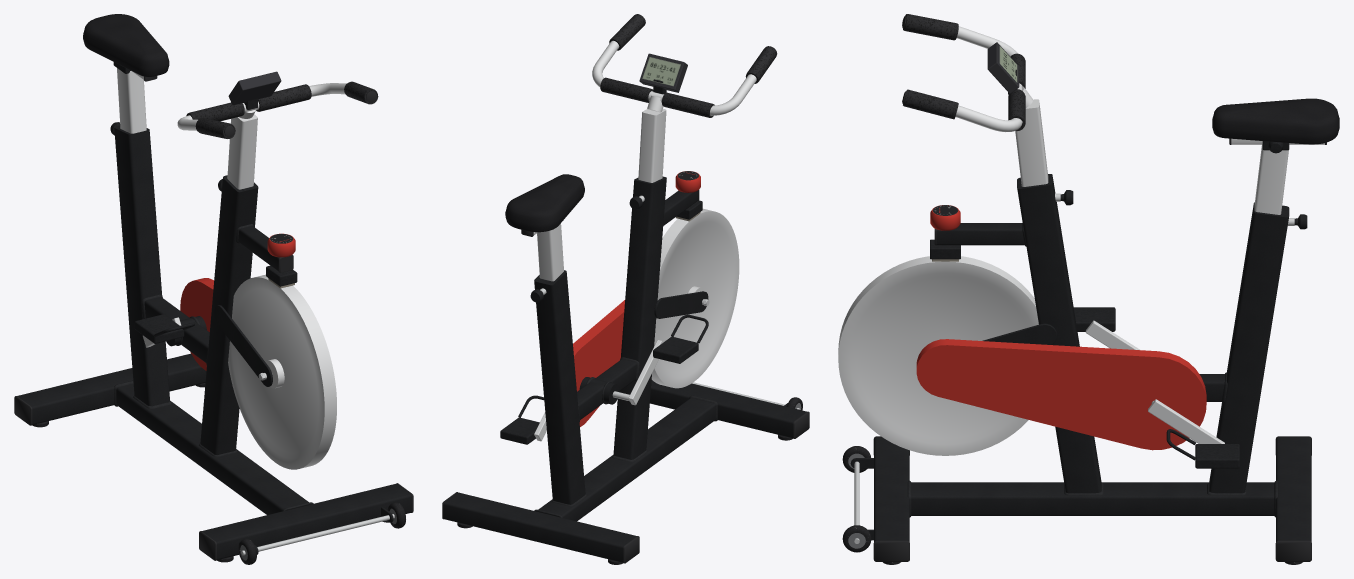
File: bike.glb
The picture shows the model from 3 angles, left to right: view 1: azimuth 30°, elevation 25°; view 2: azimuth 150°, elevation 25°; view 3: azimuth 270°, elevation 25°; orthographic projection. The views are drawn at different scales.
Visible parts, largest first — view 1: Flywheel (polished steel), Rear post (seat sleeve), Front post (handlebar sleeve), Lower beam, Stabiliser, Stabiliser.001, Saddle (black vinyl), Handlebar post, Seat post, Bottom bracket beam, Flywheel fork plate, Belt guard (red) (+8 smaller); view 2: Flywheel (polished steel), Front post (handlebar sleeve), Rear post (seat sleeve), Stabiliser.001, Lower beam, Stabiliser, Saddle (black vinyl), Belt guard (red), Handlebar post, Bottom bracket beam, Seat post, Handlebar (bullhorn) (+11 smaller); view 3: Flywheel (polished steel), Belt guard (red), Lower beam, Rear post (seat sleeve), Front post (handlebar sleeve), Saddle (black vinyl), Stabiliser.001, Stabiliser, Handlebar post, Brake arm, Seat post, Handlebar (bullhorn) (+11 smaller).
Boxes of the visible parts, x1,y1,x2,y2 form: Flywheel (polished steel): (228, 274, 336, 469); Rear post (seat sleeve): (114, 125, 169, 405); Front post (handlebar sleeve): (200, 175, 258, 454); Lower beam: (116, 383, 308, 514); Stabiliser: (202, 483, 412, 559); Stabiliser.001: (17, 353, 206, 424); Saddle (black vinyl): (83, 14, 169, 76); Handlebar post: (227, 114, 257, 189); Seat post: (117, 68, 146, 133); Bottom bracket beam: (144, 297, 209, 362); Flywheel fork plate: (214, 305, 272, 386); Belt guard (red): (180, 278, 214, 370); Flywheel (polished steel): (651, 208, 739, 388); Front post (handlebar sleeve): (613, 176, 666, 459); Rear post (seat sleeve): (534, 270, 585, 504); Stabiliser.001: (443, 492, 636, 562); Lower beam: (538, 398, 715, 521); Stabiliser: (650, 380, 806, 438); Saddle (black vinyl): (505, 174, 584, 232); Belt guard (red): (573, 300, 624, 426); Handlebar post: (638, 108, 666, 182); Bottom bracket beam: (577, 359, 636, 419); Seat post: (537, 223, 563, 281); Handlebar (bullhorn): (592, 40, 756, 115); Flywheel (polished steel): (838, 256, 1038, 455); Belt guard (red): (916, 339, 1206, 450); Lower beam: (911, 482, 1274, 515); Rear post (seat sleeve): (1209, 202, 1289, 493); Front post (handlebar sleeve): (1017, 174, 1101, 493); Saddle (black vinyl): (1212, 98, 1339, 144); Stabiliser.001: (1276, 437, 1311, 541); Stabiliser: (874, 437, 909, 541); Handlebar post: (1015, 99, 1048, 186); Brake arm: (936, 223, 1024, 245); Seat post: (1254, 144, 1288, 214); Handlebar (bullhorn): (955, 26, 1022, 132).
Bounding box in the file's own units: 0.559 × 1.15 × 1.12.
Materials: 15 (15 with a texture image).
